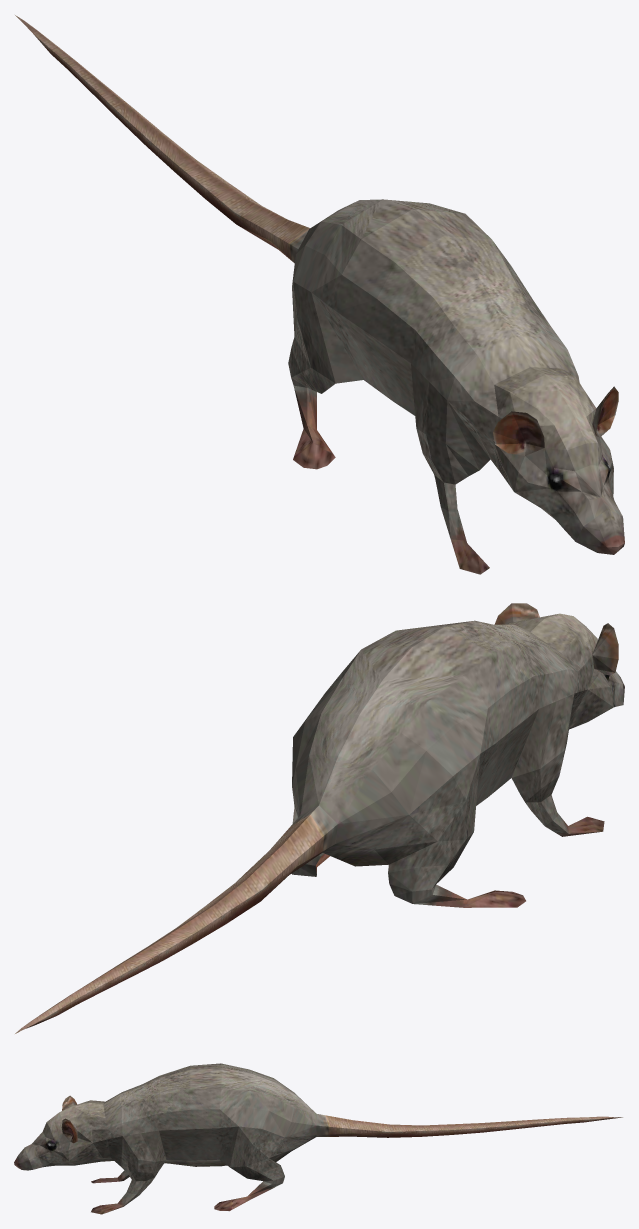
File: Rat.fbx
The picture shows the model from 3 angles, top to bottom: view 1: azimuth 30°, elevation 25°; view 2: azimuth 150°, elevation 25°; view 3: azimuth 270°, elevation 25°; orthographic projection. The views are drawn at different scales.
Visible parts, largest first — view 1: rat_LOD0; view 2: rat_LOD0; view 3: rat_LOD0.
Boxes of the visible parts, bbox=[...] form: rat_LOD0: bbox=[15, 15, 624, 574]; rat_LOD0: bbox=[15, 603, 624, 1033]; rat_LOD0: bbox=[14, 1063, 622, 1214].
Size of the model in its own units: 17.63 by 19.1 by 82.19.
